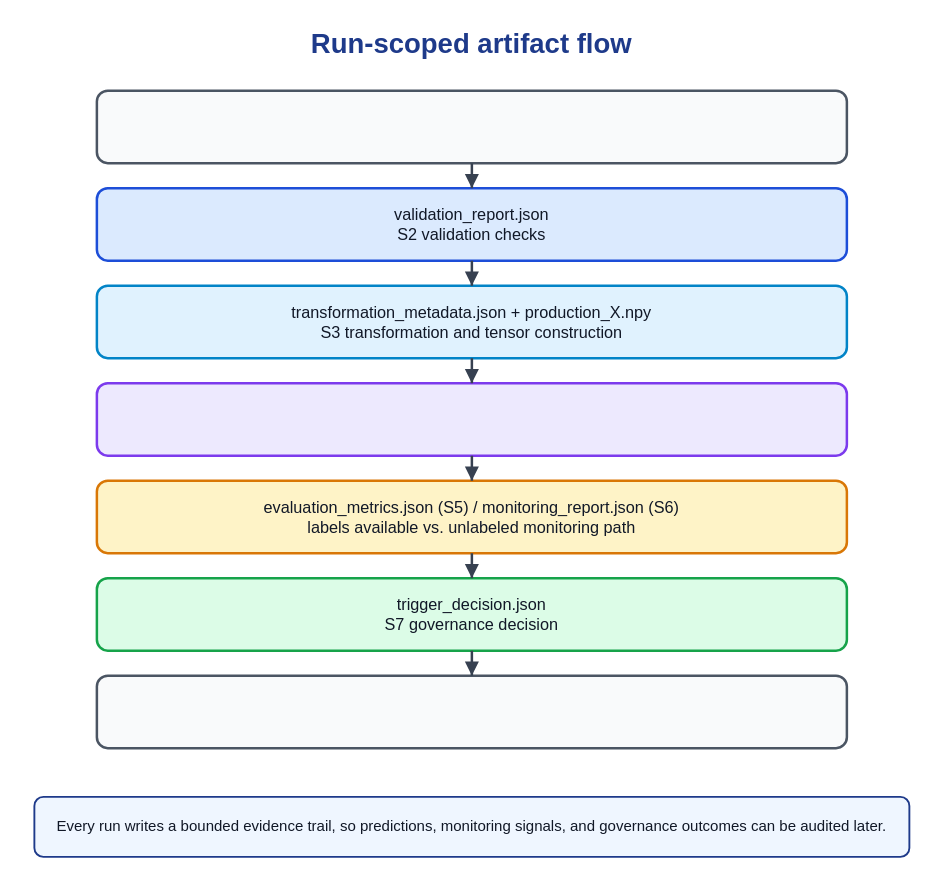
The diagram is 943 pixels wide and 879 high, and some of its shapes have lost their labels. Each missing label, with the centre of its shape:
"Input wearable session raw_data.json (orchestration, S1)" goes at (x=471, y=126).
"pipeline_result_<run_id>.json final orchestration summary" goes at (x=471, y=711).
"predictions.csv / predictions.json S4 inference outputs" goes at (x=471, y=418).
